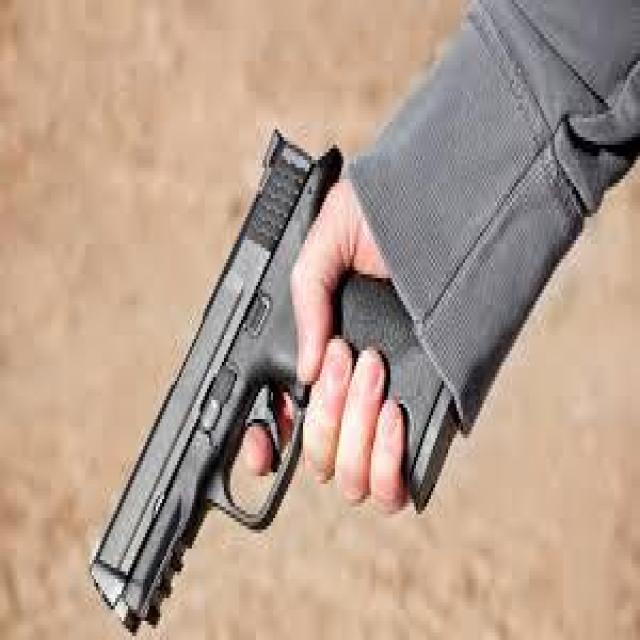gun: (90, 130, 343, 636), (337, 274, 463, 514)
